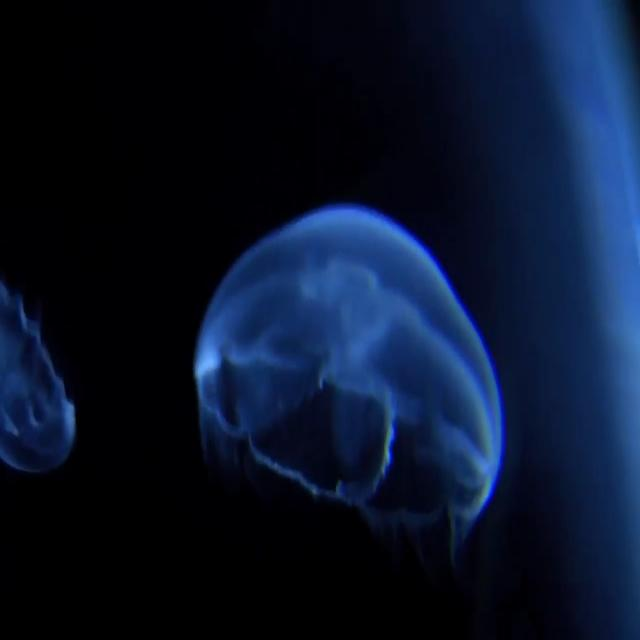Moon-jellyfish: (192, 204, 504, 638)
